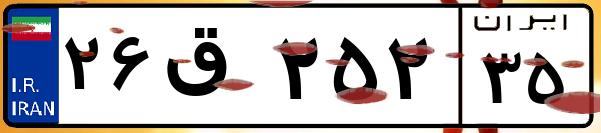2: (270, 28, 330, 110), (385, 28, 445, 110), (57, 26, 110, 100)
3: (475, 38, 525, 113)
5: (330, 28, 385, 110), (525, 38, 570, 115)
6: (110, 28, 158, 98)
ق: (158, 20, 270, 120)
